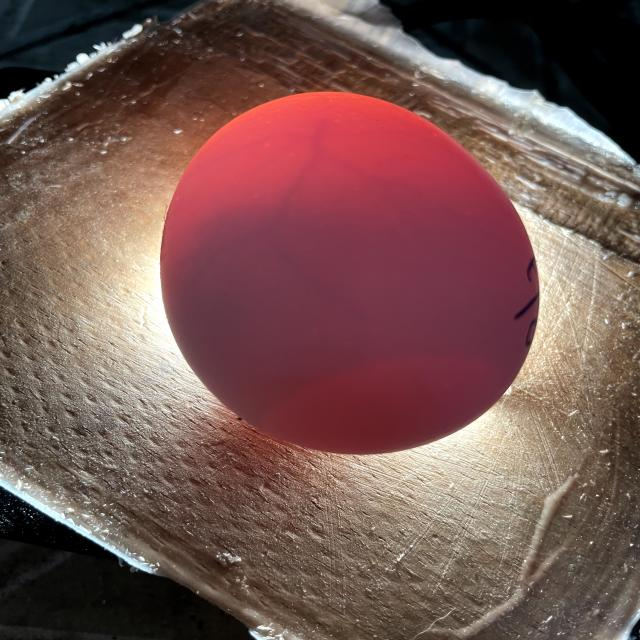fertile: (162, 93, 540, 454)
